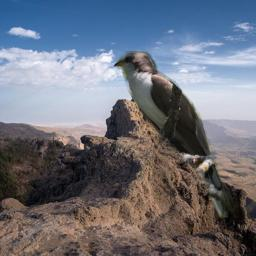Cuckoo: (112, 51, 238, 218)
